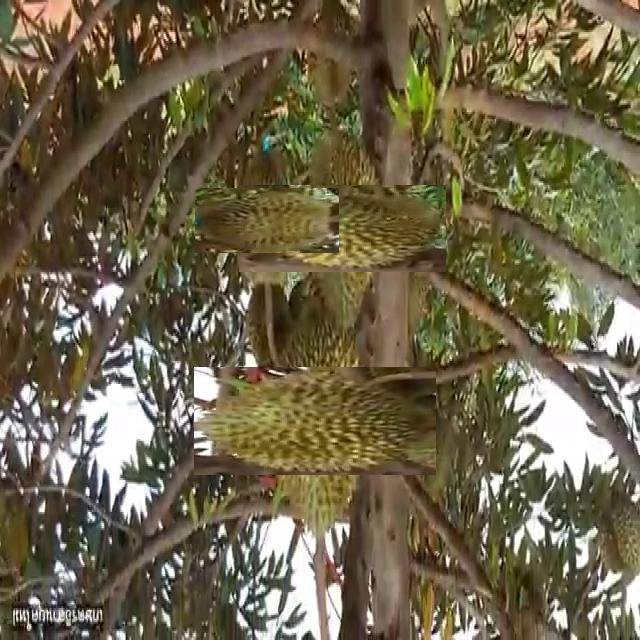durian: (227, 333, 403, 508), (269, 154, 416, 302), (214, 168, 320, 274), (604, 484, 640, 574)
